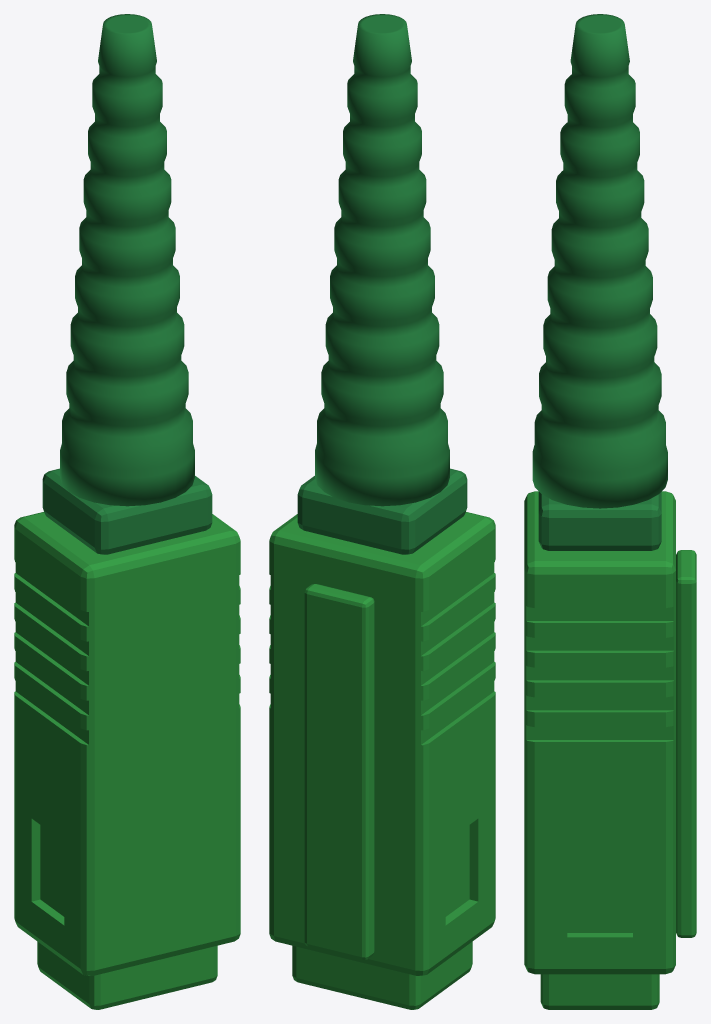
File: sc_apc.glb
3 renders of one model, left to right at view 1: azimuth 30°, elevation 25°; view 2: azimuth 150°, elevation 25°; view 3: azimuth 270°, elevation 25°, orthographic.
Visible parts, largest first — view 1: sc_verd, sc_manega; view 2: sc_verd, sc_manega; view 3: sc_verd, sc_manega.
Boxes of the visible parts, box(x1,y1,x2,y2) form: sc_verd: box(14, 512, 240, 1009); sc_manega: box(42, 14, 212, 554); sc_verd: box(269, 512, 495, 1009); sc_manega: box(297, 14, 467, 554); sc_verd: box(524, 491, 696, 1009); sc_manega: box(532, 14, 667, 550).
Size of the model in its own units: 0.009 by 0.052 by 0.0084.
